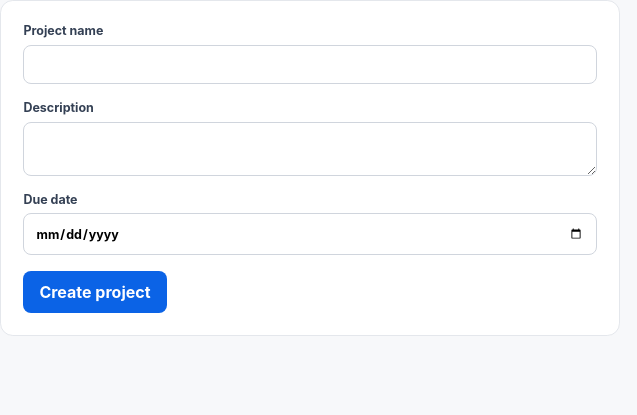
ProjectForm › shows useful validation messages and does not submit invalid values
Click the button "Create project".
click(95, 292)  # box [23, 271, 166, 313]
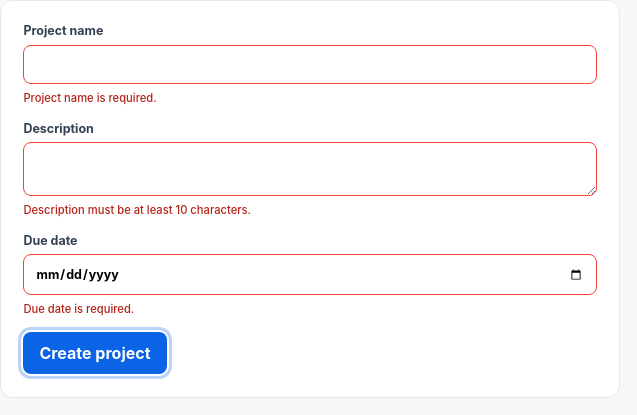
Expected: the text "Project name is required." is shown, [23, 90, 157, 104]
Expected: the text "Description must be at least 10 characters." is shown, [23, 203, 251, 217]
Expected: the text "Due date is required." is shown, [23, 302, 134, 316]
